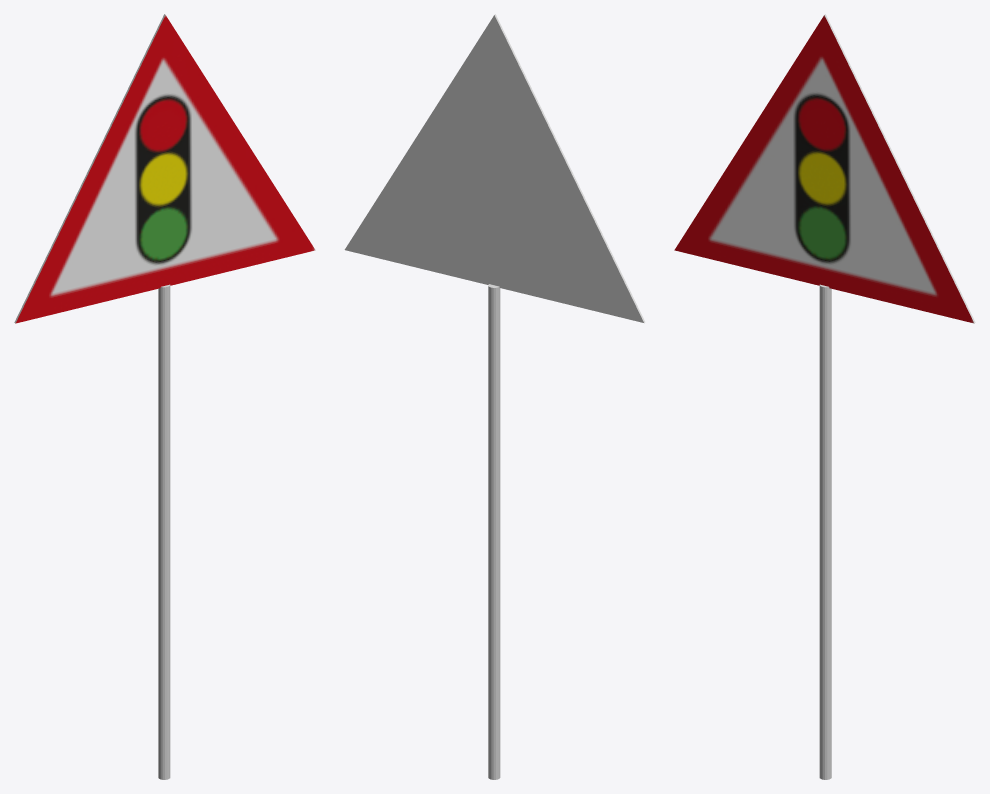
The model's file is isikli_isaret_cihazi.fbx.
The picture shows the model from 3 angles, left to right: view 1: azimuth 30°, elevation 25°; view 2: azimuth 150°, elevation 25°; view 3: azimuth 330°, elevation 25°; orthographic projection.
Visible parts, largest first — view 1: isikli_isaret_cihazi; view 2: isikli_isaret_cihazi; view 3: isikli_isaret_cihazi.
Boxes of the visible parts, bbox=[...] form: isikli_isaret_cihazi: bbox=[14, 14, 315, 779]; isikli_isaret_cihazi: bbox=[344, 14, 645, 779]; isikli_isaret_cihazi: bbox=[674, 14, 975, 779].
Size of the model in its own units: 140 by 341 by 5.
2 materials, 1 textured.
